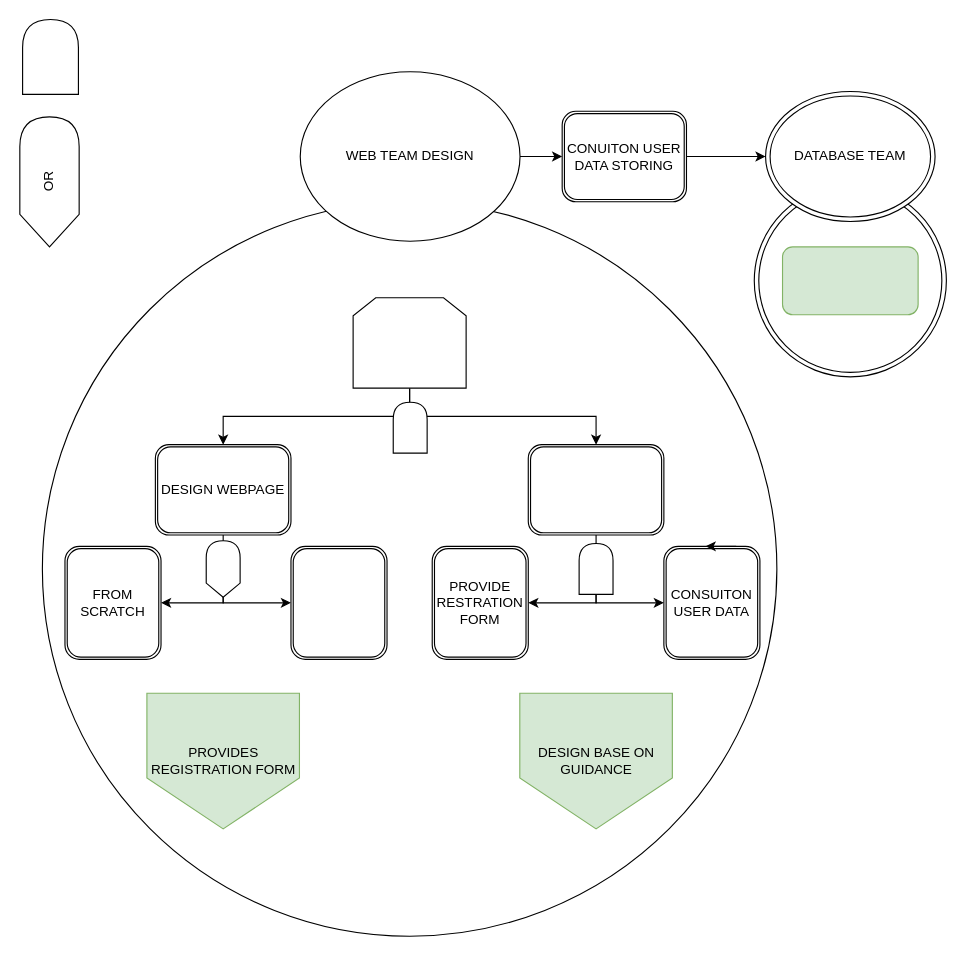
Image size: 966x957. Some labels were removed from this diagram. The shapes that lost their labels are listed below. From the top down, each one's centre as x and y in pixels, then its label:
At point 49,56: "AND".
At point 849,280: "CONSUITON USER DATA STORING".
At point 409,342: "GOAL 2".
At point 595,489: "PROVIDE REGISTRATION PROCEDURE".
At point 338,602: "FIND STANDAR TEMPLATE".
